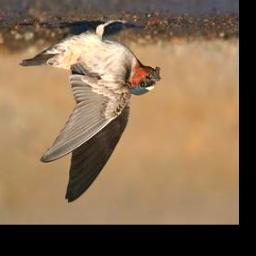Swallow: (18, 18, 162, 204)
